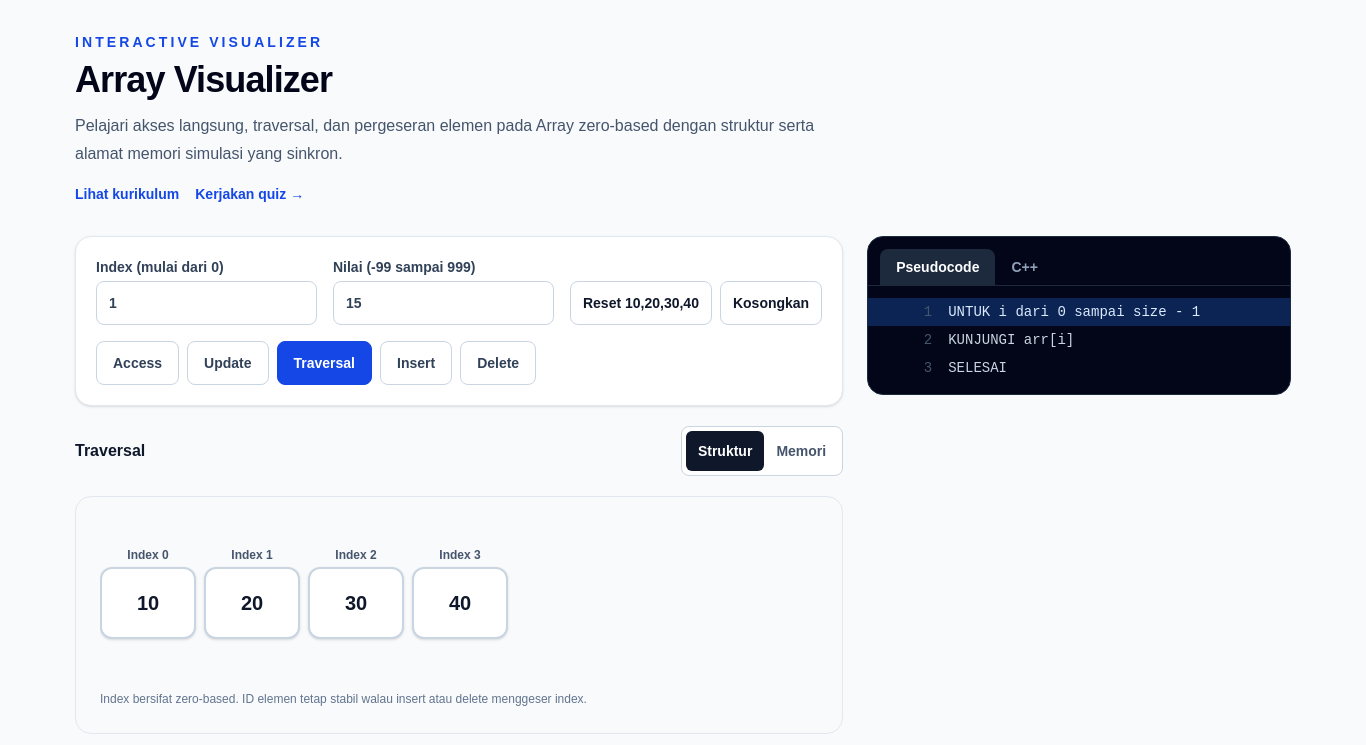
Test: ArrayVisualizer › shows specific validation feedback for an invalid index
The width and height of the screenshot is (1366, 745).
Replace the text in the number field labelled "Index (mulai dari 0)" with "8": (206, 303) [96, 281, 317, 325]
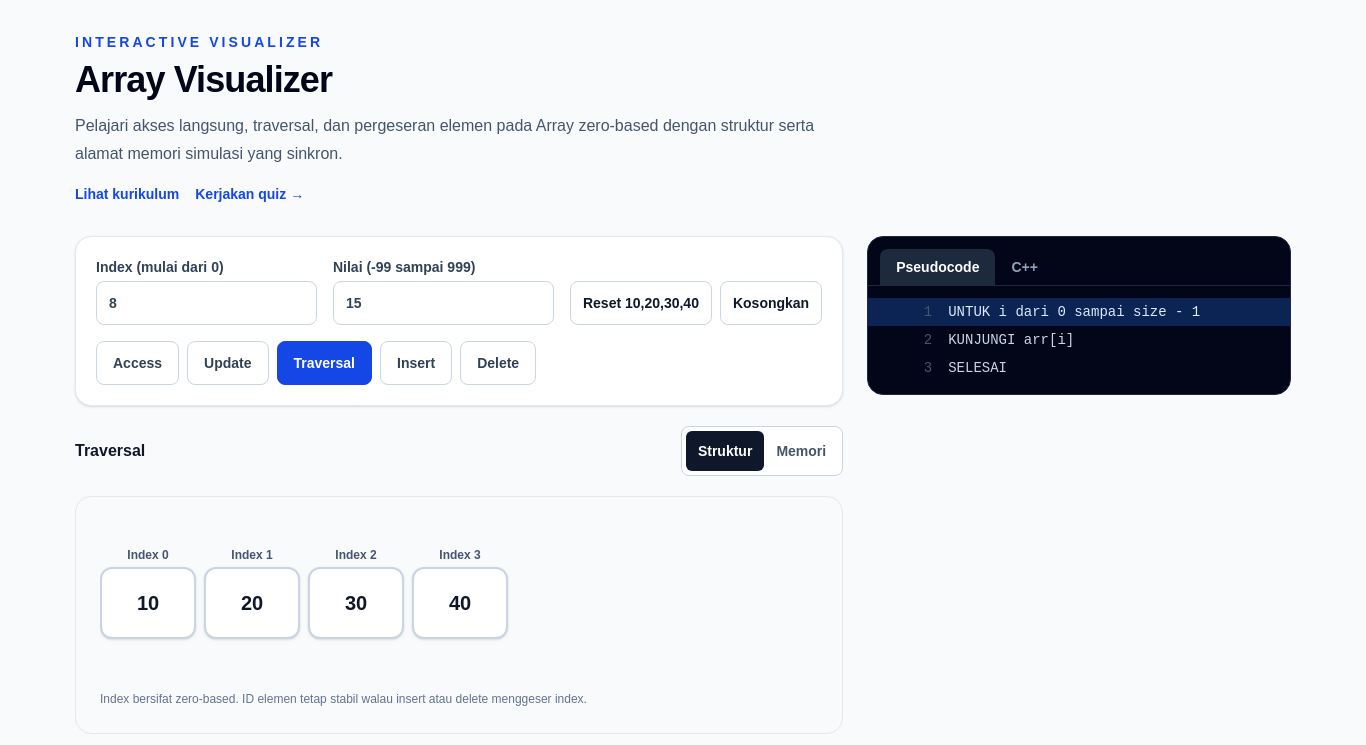
Click the button "Access": (138, 363) [96, 341, 179, 385]
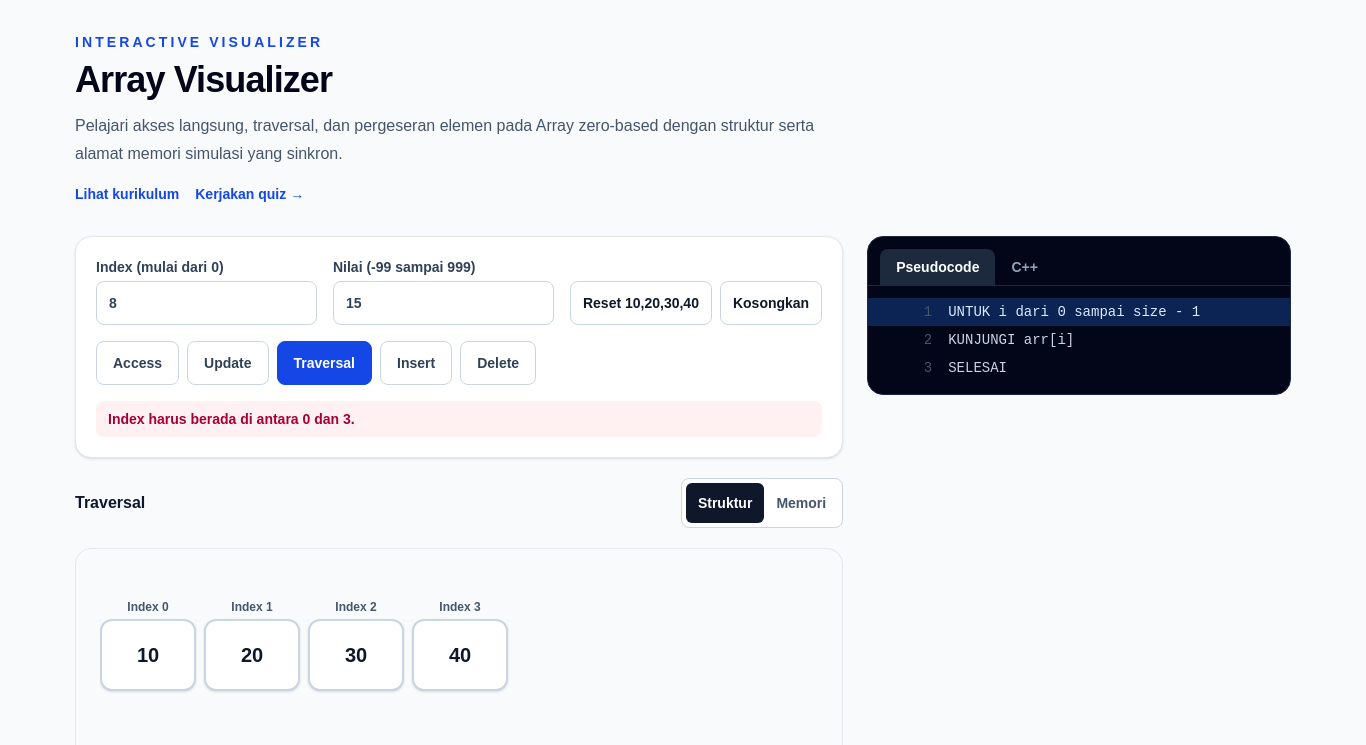
Expected: the message shows "Index harus berada di antara 0 dan 3", [108, 411, 355, 427]
